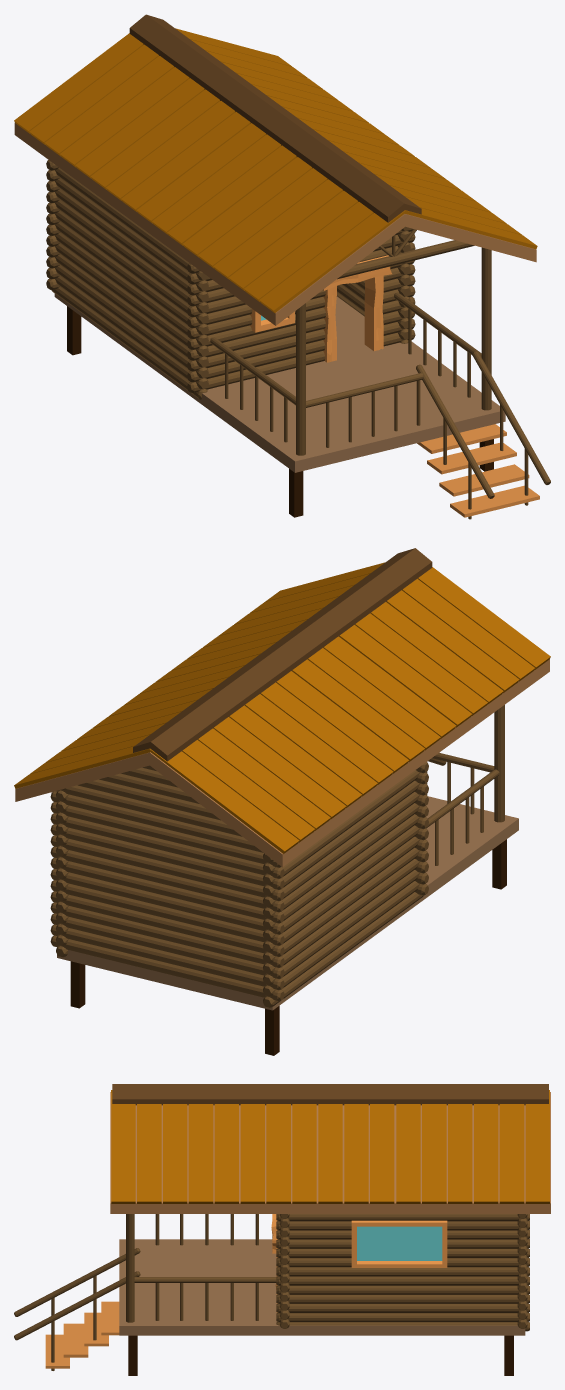
Rendered from house2.fbx.
3 renders of one model, top to bottom at view 1: azimuth 30°, elevation 25°; view 2: azimuth 150°, elevation 25°; view 3: azimuth 270°, elevation 25°, orthographic. The views are drawn at different scales.
Visible parts, largest first — view 1: house4; view 2: house4; view 3: house4.
Part boxes in pixels (x1,y1,x2,y2): house4: (14, 14, 550, 519); house4: (14, 548, 550, 1055); house4: (14, 1084, 550, 1375).
Bounding box in the file's own units: 2159 × 2322 × 4500.
